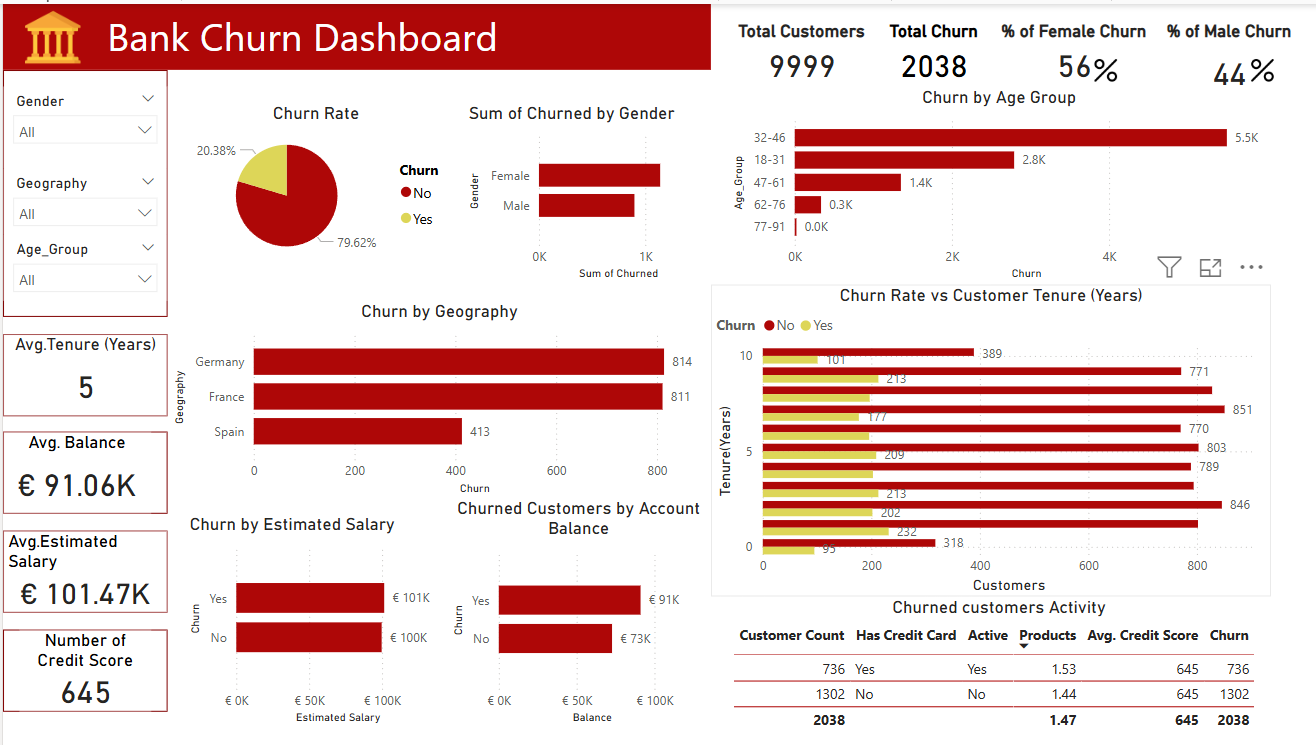

What the dashboard file says about the page in this screenshot:
{"tool":"powerbi","page":{"name":"Page 1","canvas":[1280,720],"ordinal":0},"visuals":[{"type":"shape","box":[0,64,160,240],"z":0},{"type":"shape","box":[0,608,160,80],"z":1000},{"type":"shape","box":[0,320,160,80],"z":2000},{"type":"shape","box":[0,416,160,80],"z":3000},{"type":"shape","box":[0,512,160,80],"z":4000},{"type":"clusteredBarChart","title":"Churn by Age Group","fields":{"Category":["Bank_churn.Age_Group"],"Y":["CountNonNull(Bank_churn.Churned1)"]},"box":[704,80,528,192],"z":5000},{"type":"card","title":"Total Churn","fields":{"Values":["Sum(Bank_churn.Exited)"]},"box":[848,16,112,64],"z":6000},{"type":"card","title":"Avg.Estimated Salary","fields":{"Values":["Bank_churn.Sum of EstimatedSalary for 1"]},"box":[0,512,160,80],"z":7000},{"type":"card","title":"Number of Credit Score","fields":{"Values":["Bank_churn.Sum of CreditScore for 1"]},"box":[16,608,128,80],"z":8000},{"type":"card","title":"Avg. Balance","fields":{"Values":["Bank_churn.Average of Balance for 1"]},"box":[0,416,144,80],"z":9000},{"type":"pieChart","title":"Churn Rate","fields":{"Y":["CountNonNull(Bank_churn.CustomerId)"],"Category":["Bank_churn.Churned1"]},"box":[160,96,288,160],"z":10000},{"type":"shape","title":"Bank Churn ","box":[0,0,688,64],"z":11000},{"type":"textbox","box":[96,0,416,64],"z":12000},{"type":"image","box":[16,0,64,64],"z":13000},{"type":"clusteredBarChart","title":"Churn by Estimated Salary","fields":{"Y":["Avg(Bank_churn.EstimatedSalary)"],"Category":["Bank_churn.Churned1"]},"box":[176,496,272,208],"z":14000},{"type":"clusteredBarChart","title":"Churned Customers by Account Balance","fields":{"Y":["Avg(Bank_churn.Balance)"],"Category":["Bank_churn.Churned1"]},"box":[432,480,256,224],"z":15000},{"type":"clusteredBarChart","title":"Churn by Geography","fields":{"Category":["Bank_churn.Geography"],"Y":["Sum(Bank_churn.Churned)"]},"box":[160,288,528,192],"z":16000},{"type":"card","title":"% of Female Churn","fields":{"Values":["Bank_churn.Female Churn %"]},"box":[960,16,160,64],"z":19000},{"type":"card","title":"% of Male Churn","fields":{"Values":["Bank_churn.Male Churn %"]},"box":[1120,16,144,80],"z":20000},{"type":"card","title":"Avg.Tenure (Years)","fields":{"Values":["Avg(Bank_churn.Tenure)"]},"box":[0,320,160,80],"z":21000},{"type":"slicer","fields":{"Values":["Bank_churn.Age_Group"]},"box":[0,224,160,64],"z":22000},{"type":"slicer","fields":{"Values":["Bank_churn.Geography"]},"box":[0,160,160,64],"z":23000},{"type":"slicer","fields":{"Values":["Bank_churn.Gender"]},"box":[0,80,160,80],"z":24000},{"type":"card","title":"Total Customers","fields":{"Values":["CountNonNull(Bank_churn.CustomerId)"]},"box":[704,16,144,64],"z":25000},{"type":"clusteredBarChart","title":"Churn Rate vs Customer Tenure (Years)","fields":{"Y":["CountNonNull(Bank_churn.CustomerId)"],"Series":["Bank_churn.Churned1"],"Category":["Bank_churn.Tenure"]},"box":[688,272,544,304],"z":26000},{"type":"image","box":[1040,48,64,32],"z":27000},{"type":"image","box":[1168,48,112,32],"z":28000},{"type":"clusteredBarChart","fields":{"Y":["Sum(Bank_churn.Churned)"],"Category":["Bank_churn.Gender"]},"box":[448,96,240,176],"z":28001},{"type":"tableEx","title":"Churned customers Activity","fields":{"Values":["CountNonNull(Bank_churn.CustomerId)","Bank_churn.HasCrCard","Bank_churn.IsActiveMember","Avg(Bank_churn.NumOfProducts)","Avg(Bank_churn.CreditScore)","Sum(Bank_churn.Churned)"]},"box":[704,576,528,144],"z":28002}]}

Visuals, with their boxes in screenshot pixels (x1, y1, x2, y2), scaled from the page's 1280x720 canvas onto the 1316x745 screenshot:
shape: <box>0,66,164,315</box>
shape: <box>0,629,164,712</box>
shape: <box>0,331,164,414</box>
shape: <box>0,430,164,513</box>
shape: <box>0,530,164,613</box>
"Churn by Age Group" clusteredBarChart: <box>724,83,1267,281</box>
"Total Churn" card: <box>872,17,987,83</box>
"Avg.Estimated Salary" card: <box>0,530,164,613</box>
"Number of Credit Score" card: <box>16,629,148,712</box>
"Avg. Balance" card: <box>0,430,148,513</box>
"Churn Rate" pieChart: <box>164,99,461,265</box>
"Bank Churn " shape: <box>0,0,707,66</box>
textbox: <box>99,0,526,66</box>
image: <box>16,0,82,66</box>
"Churn by Estimated Salary" clusteredBarChart: <box>181,513,461,728</box>
"Churned Customers by Account Balance" clusteredBarChart: <box>444,497,707,728</box>
"Churn by Geography" clusteredBarChart: <box>164,298,707,497</box>
"% of Female Churn" card: <box>987,17,1152,83</box>
"% of Male Churn" card: <box>1152,17,1300,99</box>
"Avg.Tenure (Years)" card: <box>0,331,164,414</box>
slicer - Bank_churn.Age_Group: <box>0,232,164,298</box>
slicer - Bank_churn.Geography: <box>0,166,164,232</box>
slicer - Bank_churn.Gender: <box>0,83,164,166</box>
"Total Customers" card: <box>724,17,872,83</box>
"Churn Rate vs Customer Tenure (Years)" clusteredBarChart: <box>707,281,1267,596</box>
image: <box>1069,50,1135,83</box>
image: <box>1201,50,1315,83</box>
clusteredBarChart - Sum(Bank_churn.Churned) x Bank_churn.Gender: <box>461,99,707,281</box>
"Churned customers Activity" tableEx: <box>724,596,1267,744</box>
